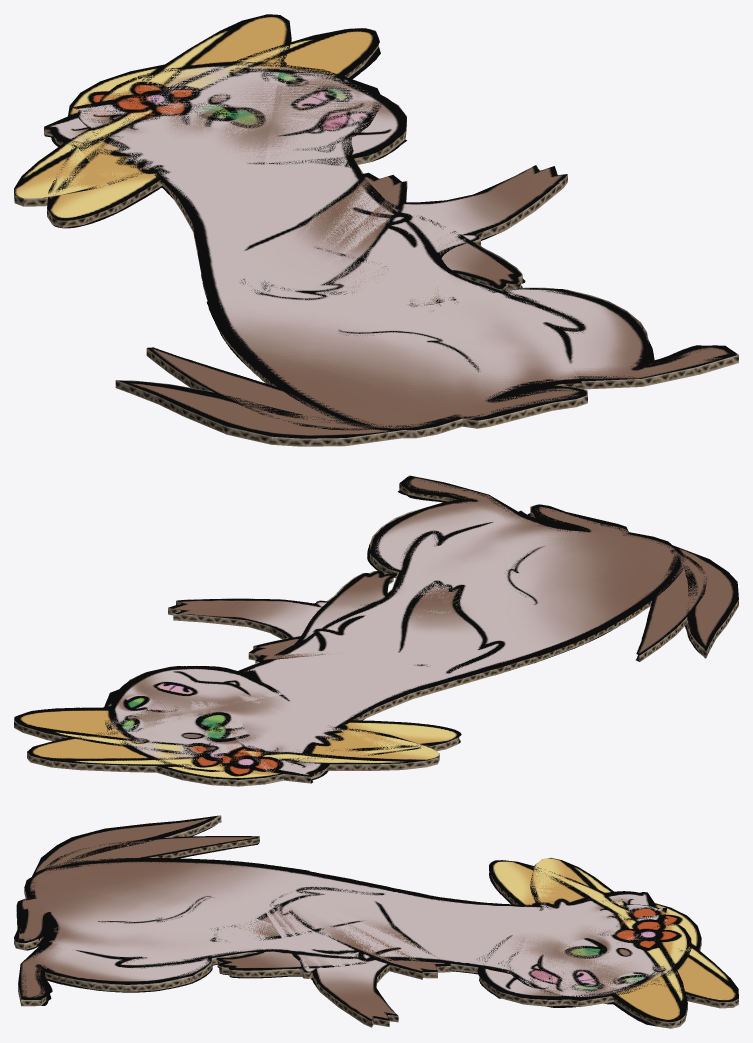
The model's file is Sprite_Hat_Full.fbx.
The picture shows the model from 3 angles, top to bottom: view 1: azimuth 30°, elevation 25°; view 2: azimuth 150°, elevation 25°; view 3: azimuth 270°, elevation 25°; orthographic projection. The views are drawn at different scales.
Visible parts, largest first — view 1: Plane.001, Plane; view 2: Plane, Plane.001; view 3: Plane, Plane.001.
Part boxes in pixels (x1,y1,x2,y2): Plane.001: [44, 14, 738, 430]; Plane: [14, 28, 736, 446]; Plane: [14, 476, 738, 773]; Plane.001: [27, 475, 706, 786]; Plane: [14, 815, 691, 1028]; Plane.001: [16, 836, 738, 1027].
Size of the model in its own units: 286 by 4 by 422.
